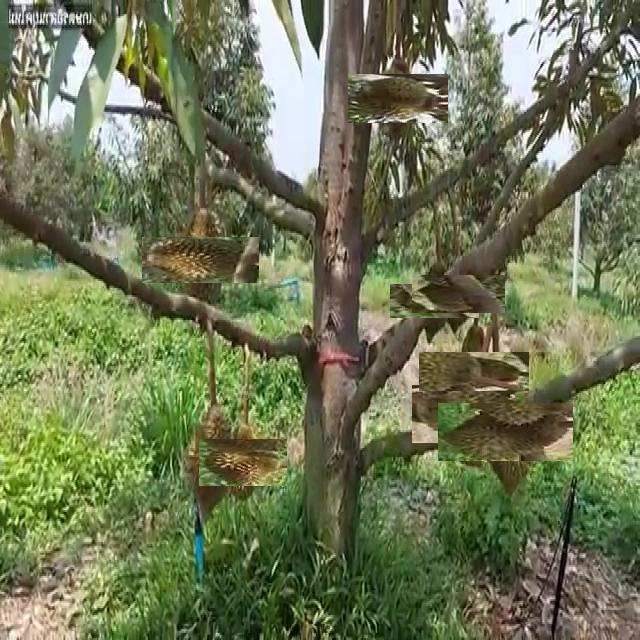durian: (457, 383, 554, 480), (425, 372, 511, 457), (160, 220, 242, 302), (360, 61, 435, 136), (437, 334, 511, 408), (190, 397, 235, 517), (209, 428, 277, 496), (425, 260, 492, 326), (404, 270, 466, 332)
